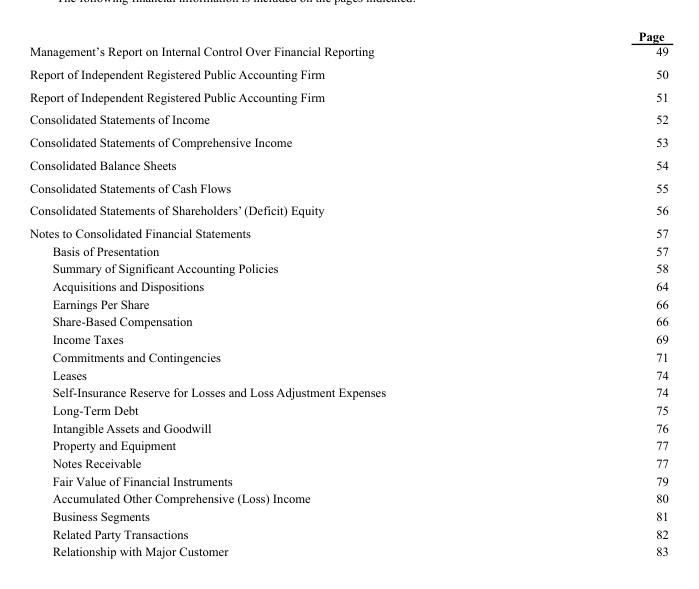table: (28, 28, 667, 558)
table column: (28, 28, 511, 558), (511, 28, 667, 558)
table column header: (28, 28, 667, 43)
table row: (28, 62, 667, 85), (28, 107, 667, 130), (28, 130, 667, 153), (28, 153, 667, 176), (28, 198, 667, 221), (28, 85, 667, 107), (28, 176, 667, 198), (28, 221, 667, 241), (28, 43, 667, 62), (28, 241, 667, 259), (28, 259, 667, 277), (28, 294, 667, 312), (28, 312, 667, 330), (28, 347, 667, 365), (28, 365, 667, 383), (28, 400, 667, 418), (28, 418, 667, 436), (28, 453, 667, 471), (28, 471, 667, 489), (28, 506, 667, 524), (28, 524, 667, 542), (28, 277, 667, 294), (28, 330, 667, 347), (28, 383, 667, 400), (28, 436, 667, 453), (28, 489, 667, 506), (28, 542, 667, 558), (28, 28, 667, 43)
